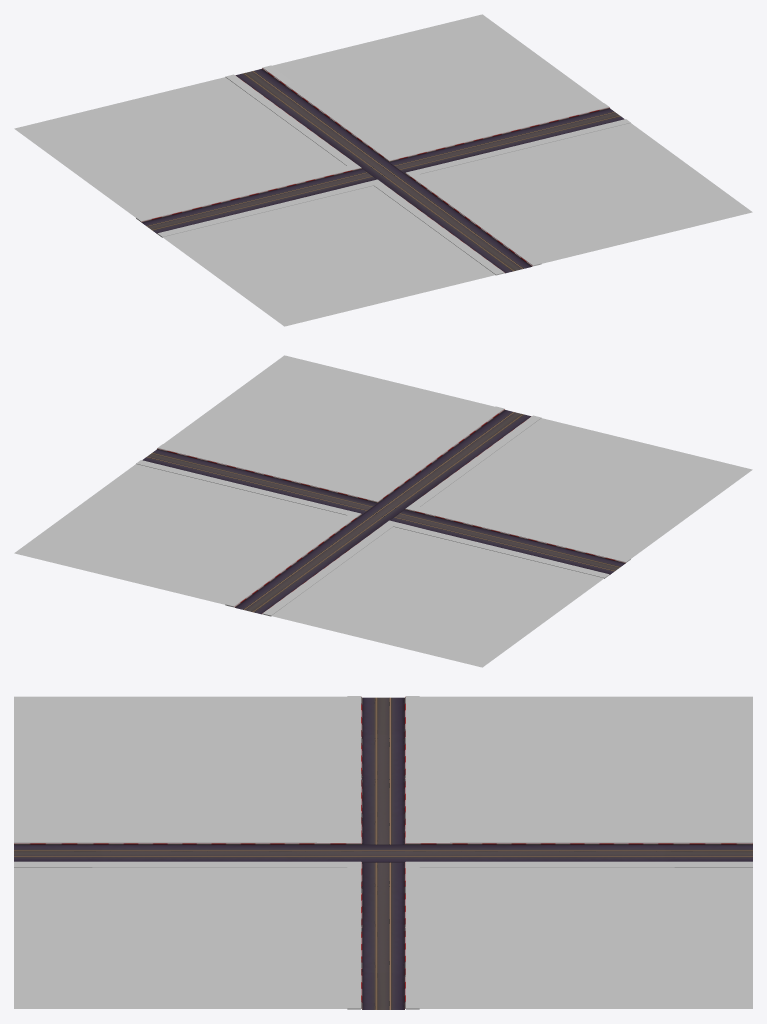
The model's file is crossingRoad.fbx.
3 views of the same model, one above another, from view 1: azimuth 30°, elevation 25°; view 2: azimuth 150°, elevation 25°; view 3: azimuth 270°, elevation 25° (orthographic). The views are drawn at different scales.
Visible parts, largest first — view 1: groundBit_low, roadGround_low; view 2: groundBit_low, roadGround_low; view 3: groundBit_low, roadGround_low.
Part boxes in pixels (x1,y1,x2,y2): groundBit_low: (14,14,752,326); roadGround_low: (141,68,624,273); groundBit_low: (14,355,752,667); roadGround_low: (142,409,625,614); groundBit_low: (14,696,752,1009); roadGround_low: (14,696,752,1009).
Size of the model in its own units: 10958 by 36.62 by 10958.
